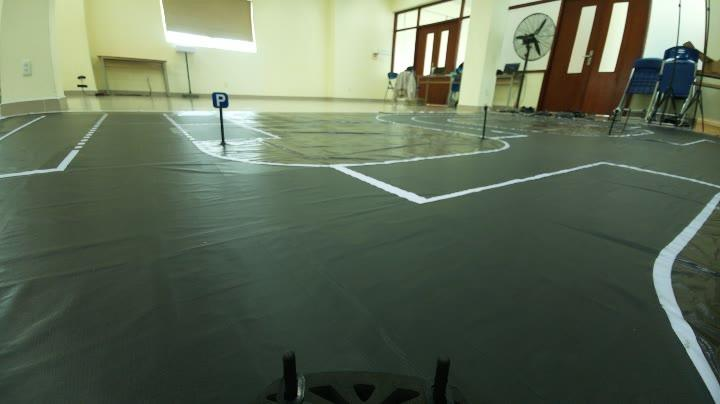parking: (206, 84, 236, 113)
